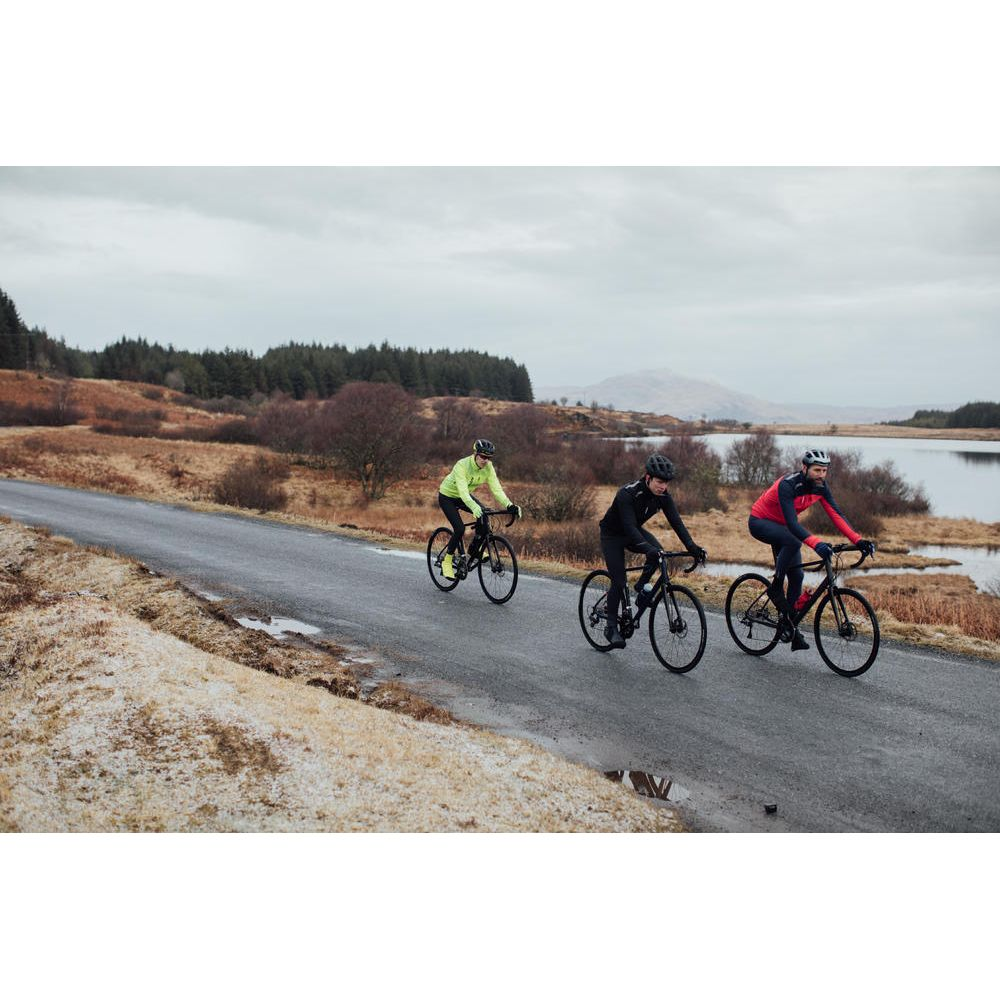RoadBike: (724, 537, 888, 685), (571, 542, 709, 693), (421, 500, 535, 612)
